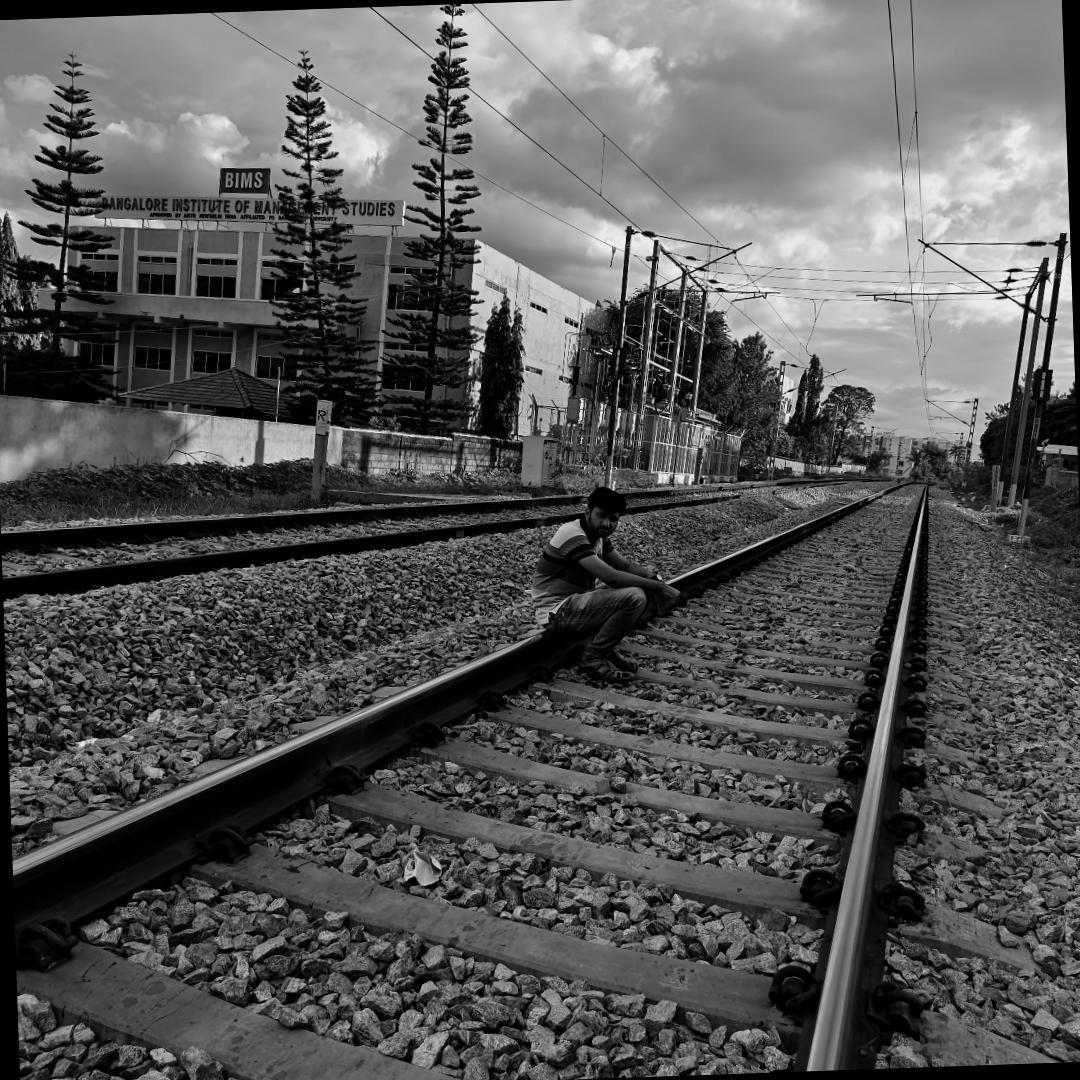sitting: (520, 466, 692, 696)
